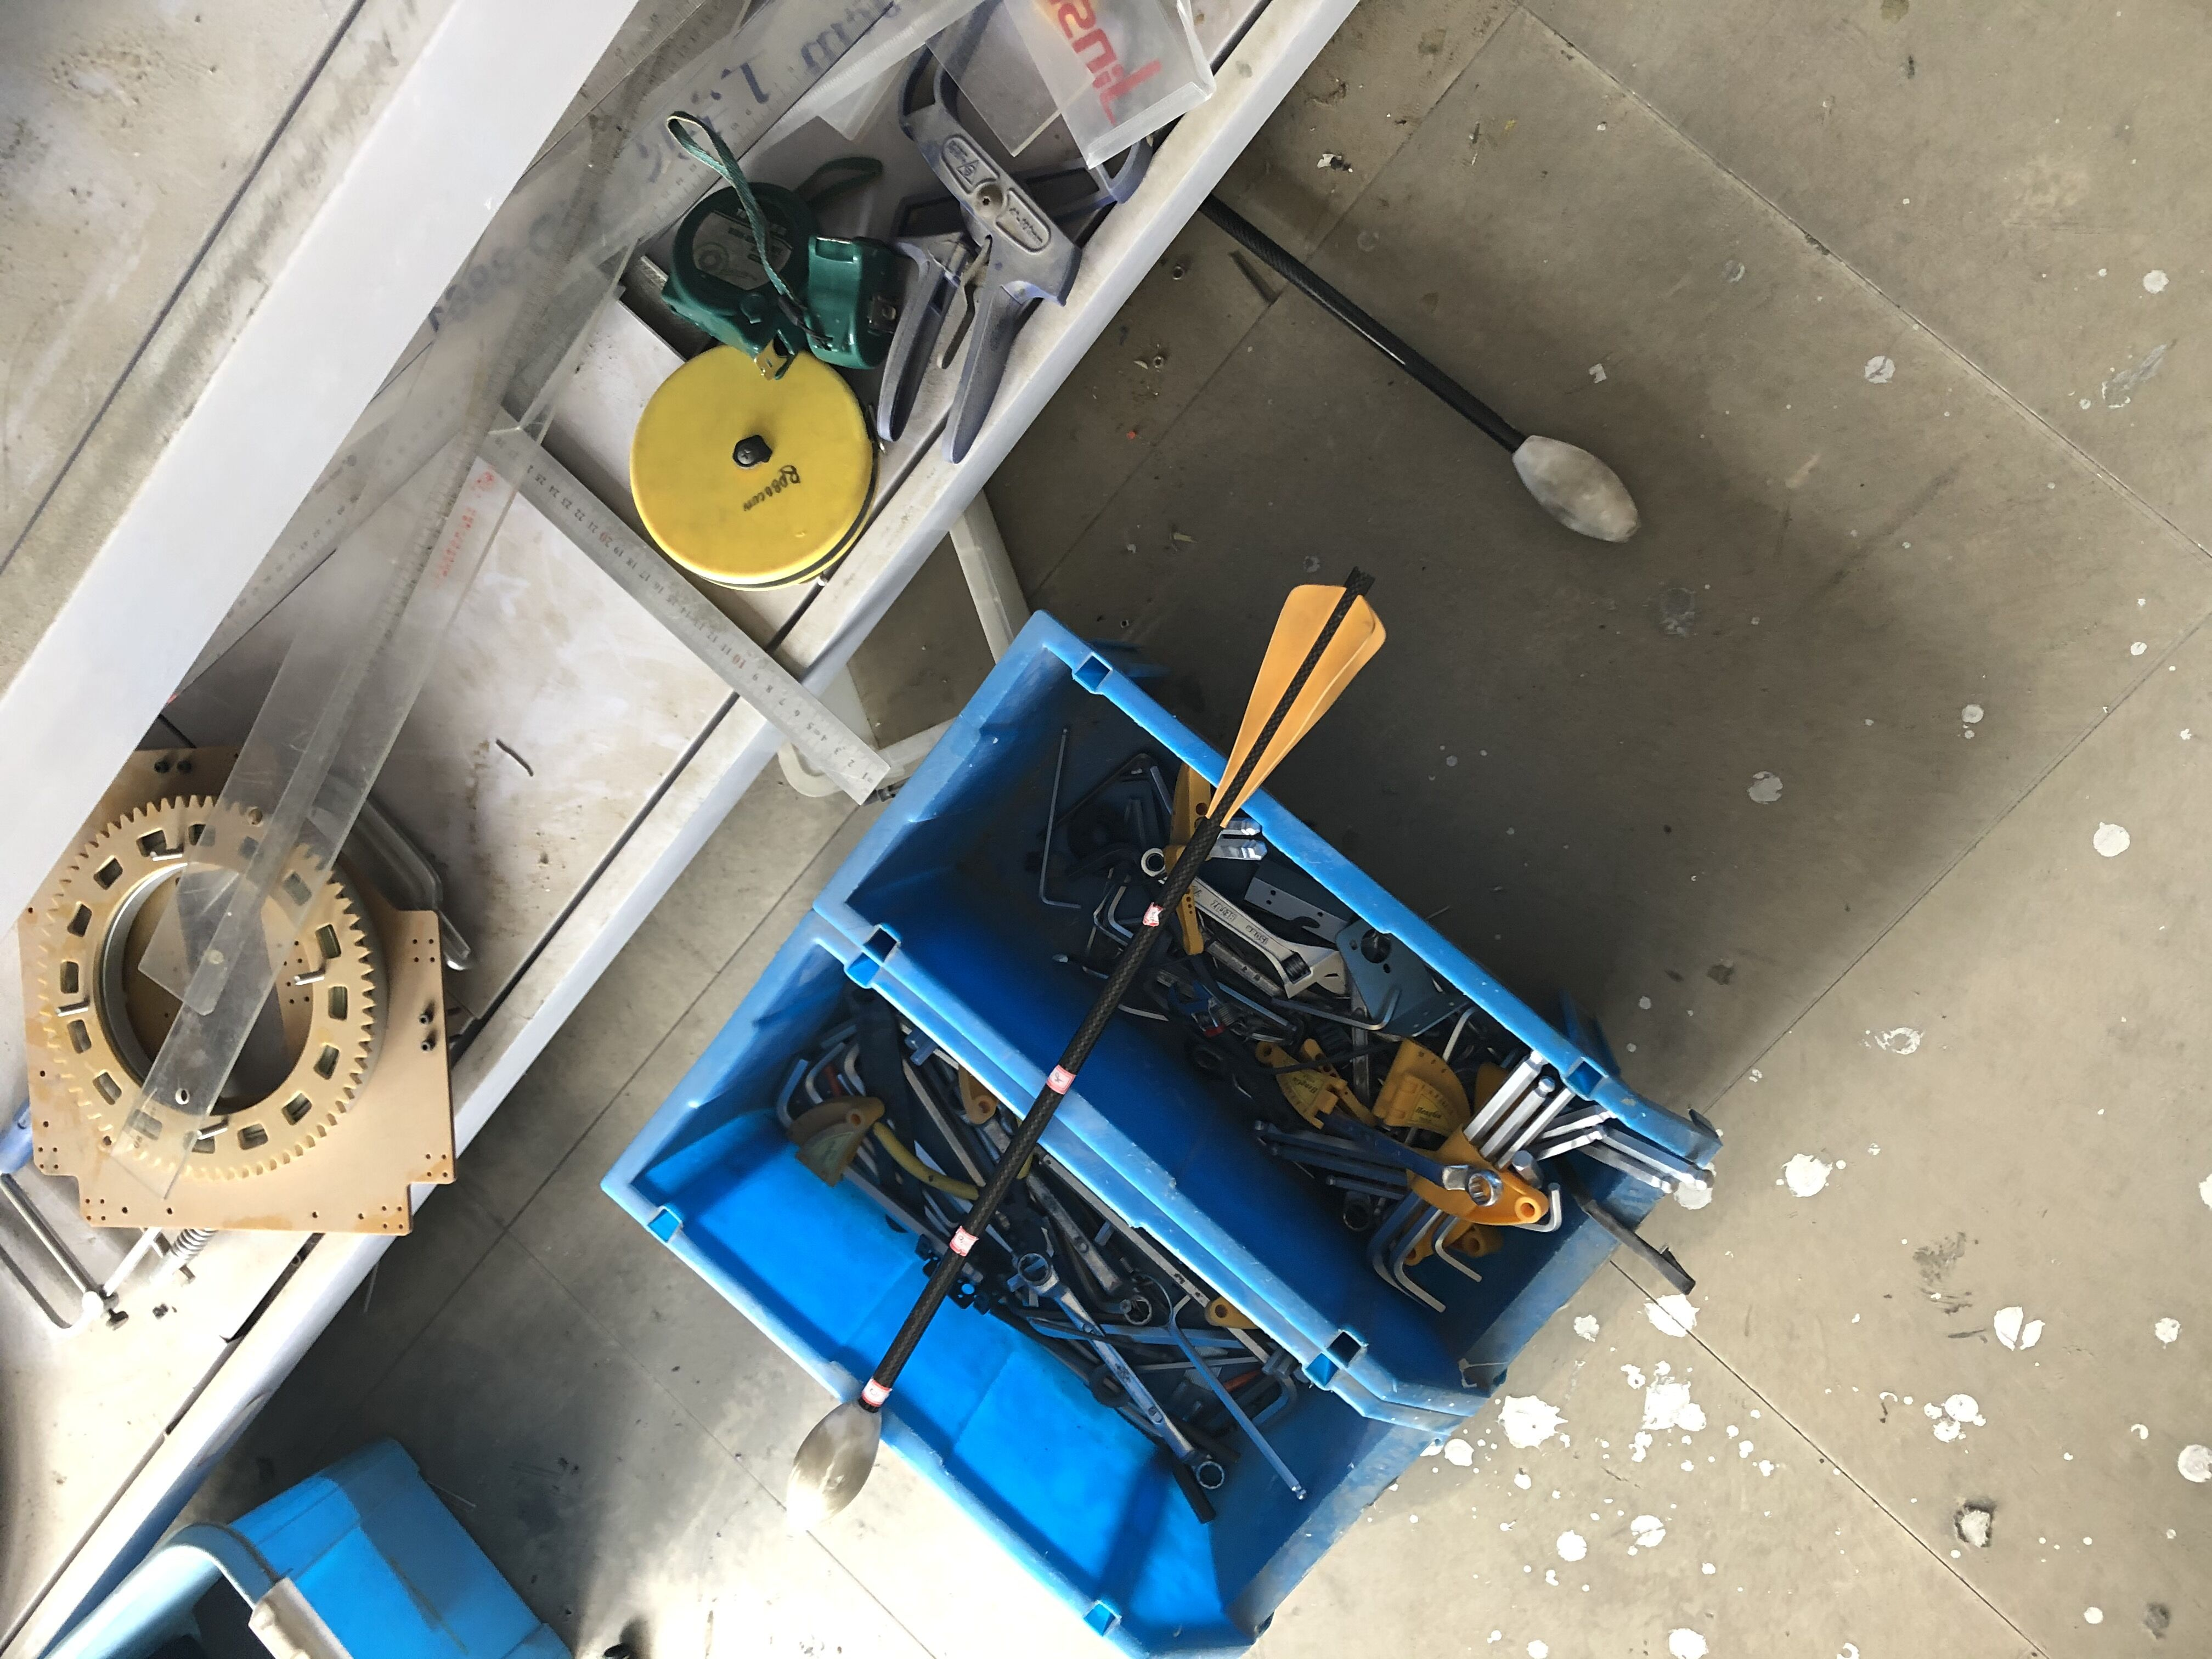arrow: (786, 566, 1388, 1523), (1200, 193, 1639, 538)
arrowFront: (1510, 430, 1644, 538), (784, 1399, 885, 1521)
